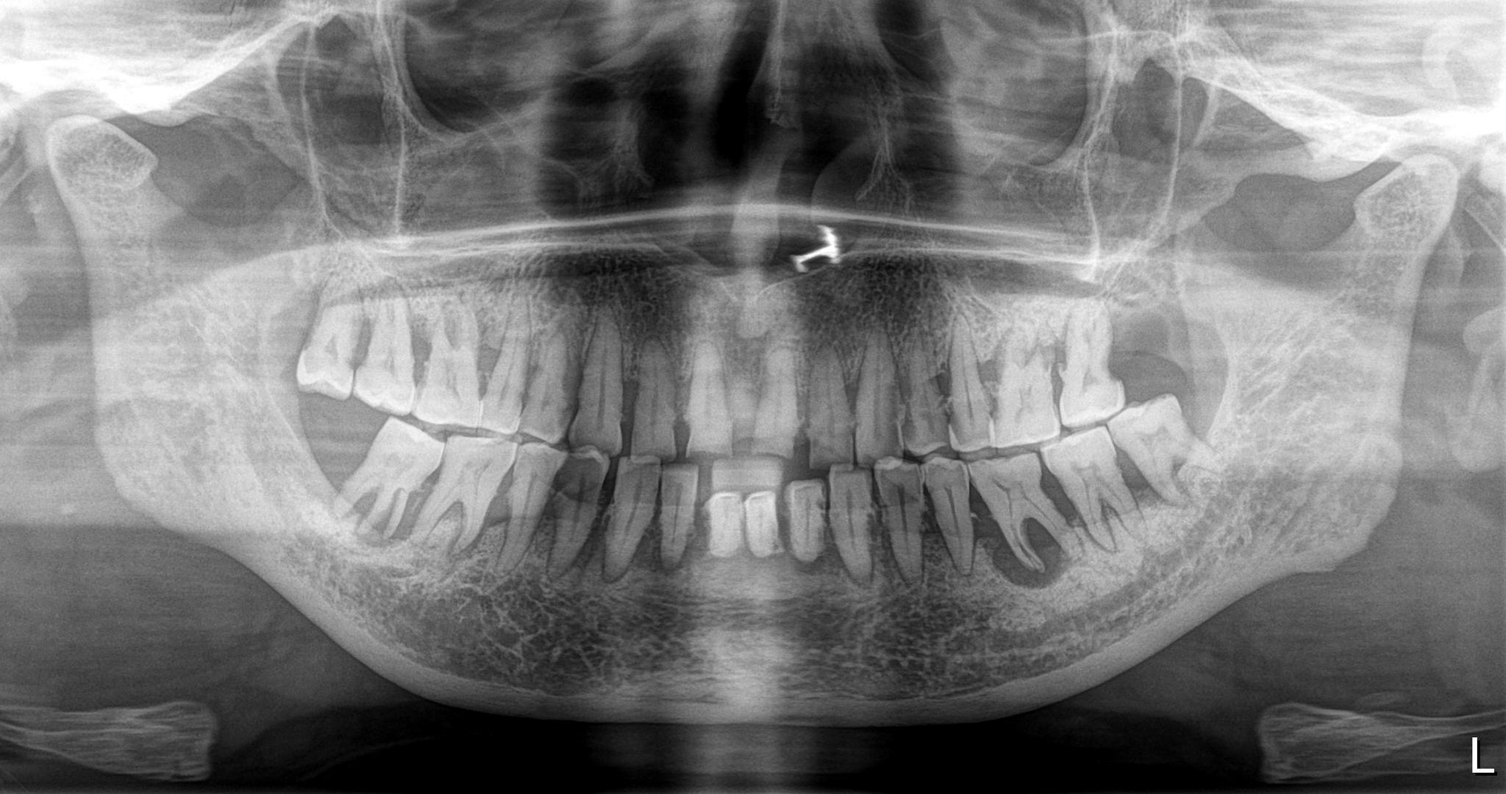Attrition: (666, 459, 830, 511)
Missing Tooth: (1118, 301, 1198, 404), (292, 395, 367, 492)
Periapical Lesion: (984, 515, 1074, 604), (355, 491, 436, 555), (673, 513, 718, 573)
Tooth Fracture: (346, 467, 451, 565)
